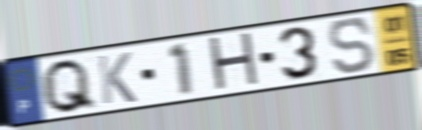1: (165, 42, 199, 99)
3: (276, 23, 321, 83)
H: (206, 30, 263, 95)
K: (94, 50, 139, 107)
Q: (39, 57, 100, 116)
S: (326, 16, 378, 77)
